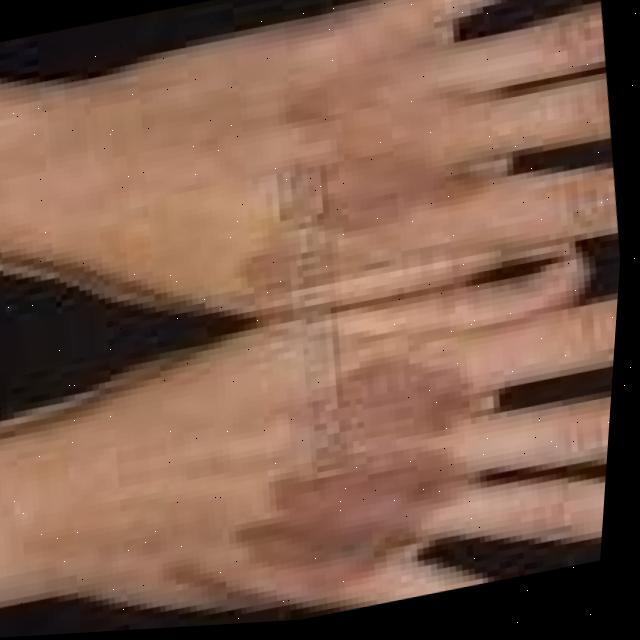Melasma: (239, 359, 435, 621), (279, 76, 466, 273)
